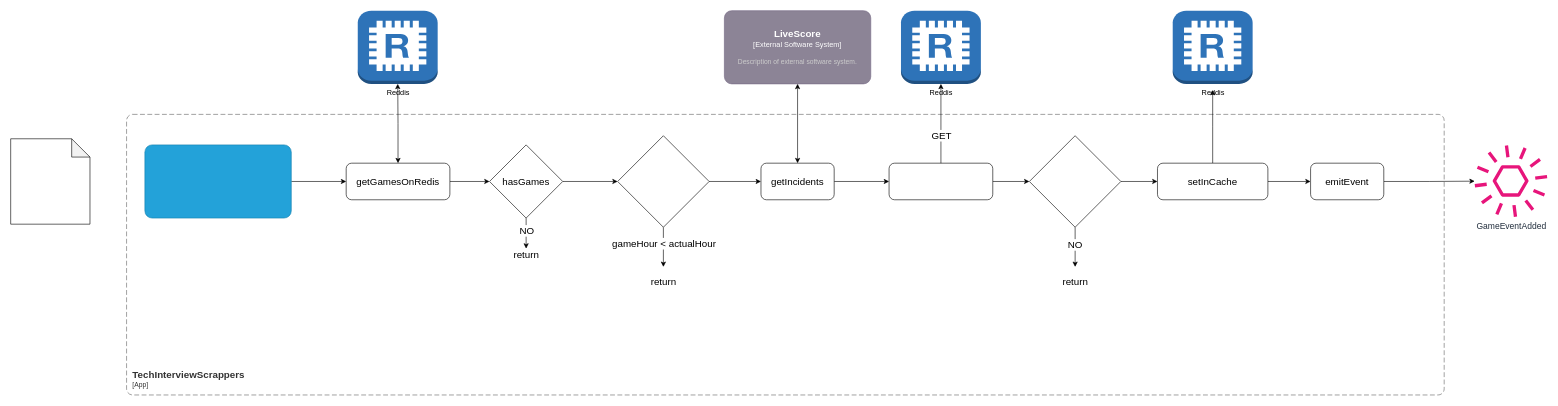
Image size: 1558x406. Some labels were removed from this diagram. Here are the shapes that lost their labels. From the top down, the box of each, then its label:
(10, 138, 90, 224): Siempre encendido, cada 10 segundos
(144, 144, 291, 218): CronJob [Container: Nest Module] business gateway
(617, 135, 709, 227): checkGameHour
(888, 163, 993, 200): checkLastIncident
(1029, 135, 1121, 227): isNewIncident
